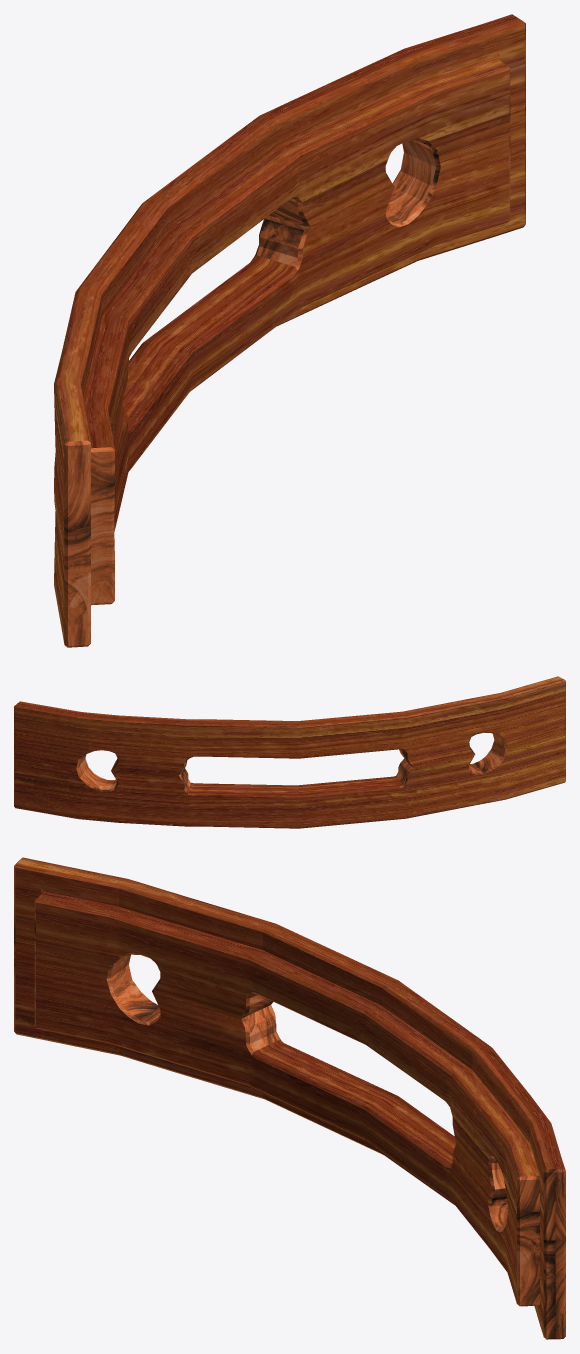
Rendered from yuandeng_J_D_shuyao_04.FBX.
The picture shows the model from 3 angles, top to bottom: view 1: azimuth 30°, elevation 25°; view 2: azimuth 150°, elevation 25°; view 3: azimuth 270°, elevation 25°; orthographic projection. The views are drawn at different scales.
Visible parts, largest first — view 1: yuandeng_J_D_shuyao_04; view 2: yuandeng_J_D_shuyao_04; view 3: yuandeng_J_D_shuyao_04.
Part boxes in pixels (x1,y1,x2,y2): yuandeng_J_D_shuyao_04: (54, 14, 525, 647); yuandeng_J_D_shuyao_04: (14, 676, 565, 828); yuandeng_J_D_shuyao_04: (14, 857, 565, 1339).
Bounding box in the file's own units: 16.6 × 4.27 × 12.33.
Materials: 2 (2 with a texture image).
